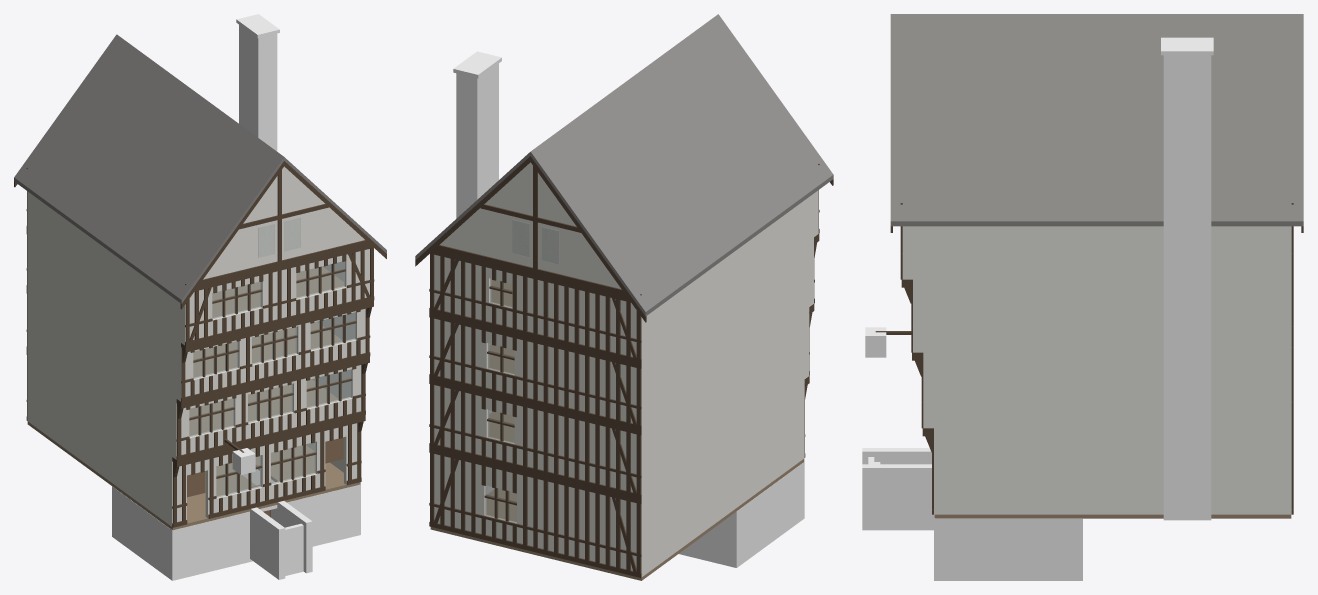
The model's file is llandoger-trow.glb.
3 renders of one model, left to right at view 1: azimuth 30°, elevation 25°; view 2: azimuth 150°, elevation 25°; view 3: azimuth 270°, elevation 25°, orthographic. The views are drawn at different scales.
Visible parts, largest first — view 1: render, roof, timber, stone, glass, floor, flags, green; view 2: render, roof, timber, stone, glass, floor, flags; view 3: render, roof, stone, timber, floor, green, flags.
Boxes of the visible parts, box(x1,y1,x2,y2) form: render: box(27, 166, 369, 526); roof: box(14, 34, 386, 303); timber: box(14, 161, 386, 527); stone: box(112, 14, 360, 579); glass: box(189, 217, 355, 497); floor: box(27, 266, 360, 530); flags: box(112, 531, 360, 580); green: box(232, 448, 255, 474); render: box(434, 162, 818, 576); roof: box(415, 14, 833, 316); timber: box(415, 156, 833, 577); stone: box(453, 51, 804, 564); glass: box(485, 219, 559, 523); floor: box(430, 280, 804, 580); flags: box(679, 515, 804, 567); render: box(902, 226, 1291, 514); roof: box(890, 14, 1303, 226); stone: box(862, 37, 1213, 576); timber: box(875, 203, 1303, 514); floor: box(934, 514, 1291, 518); green: box(865, 327, 886, 357); flags: box(934, 577, 1082, 580).
Bounding box in the file's own units: 9.93 × 19.85 × 14.8.
